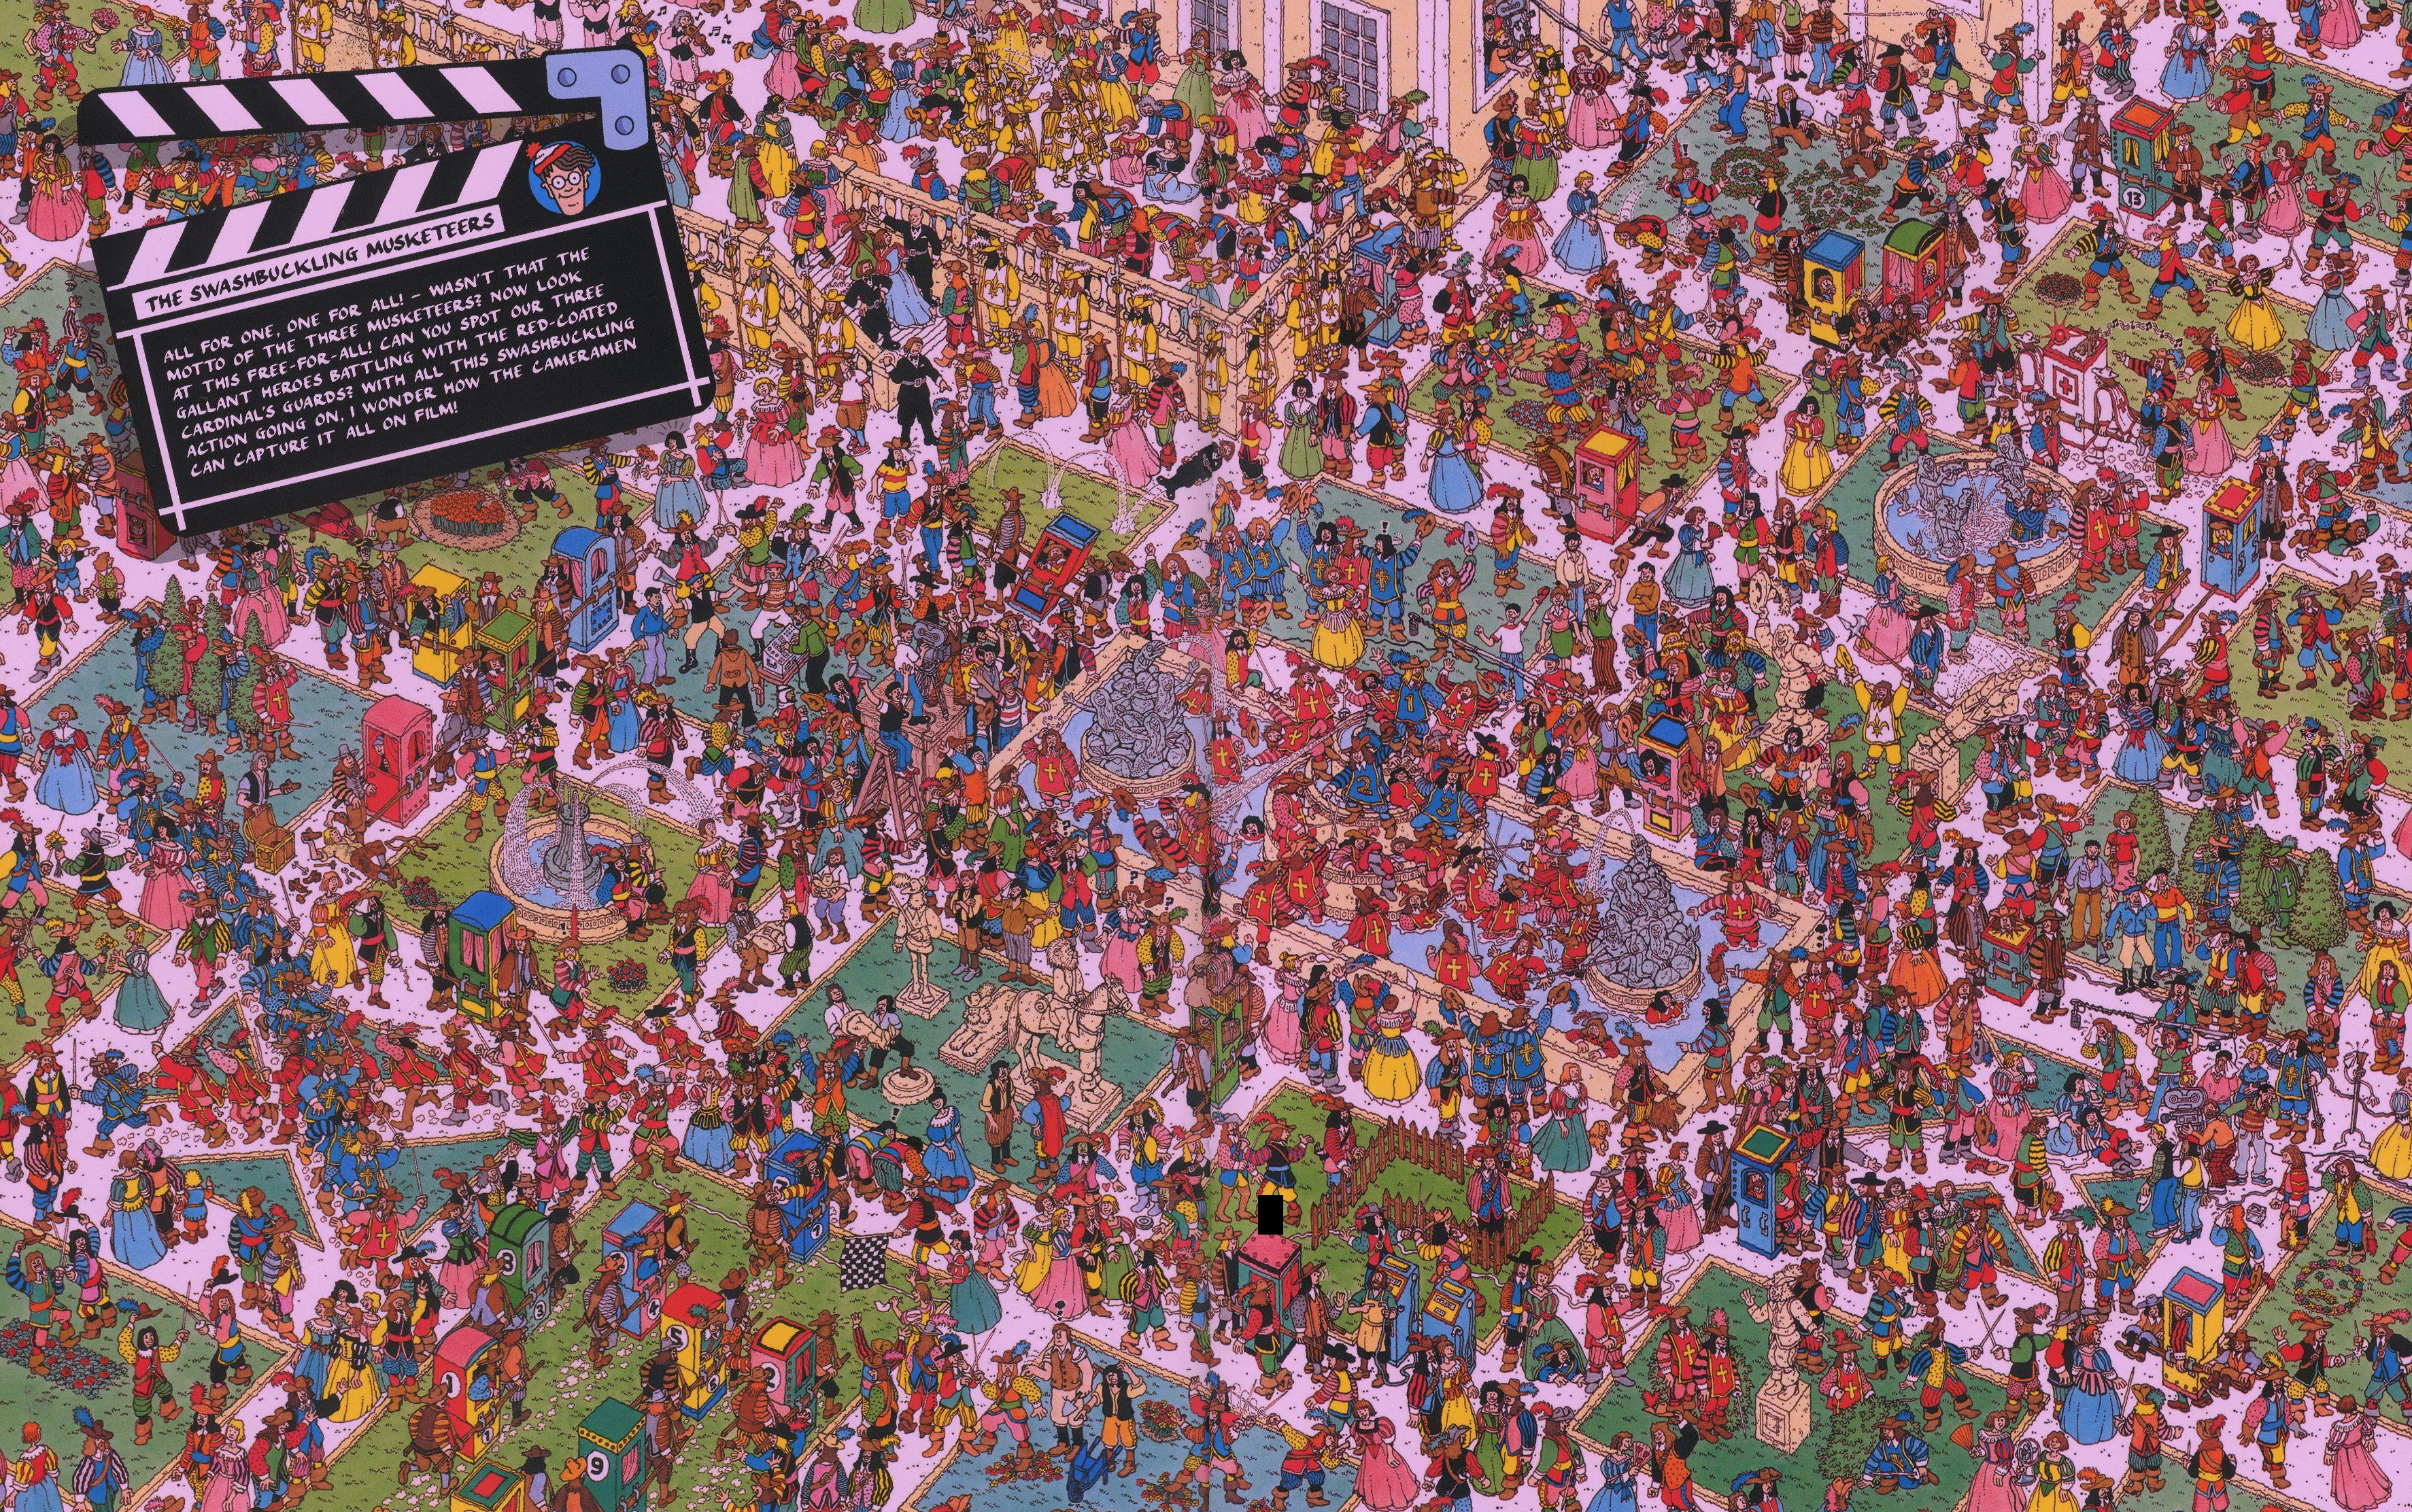waldos: (2297, 723, 2321, 763)
